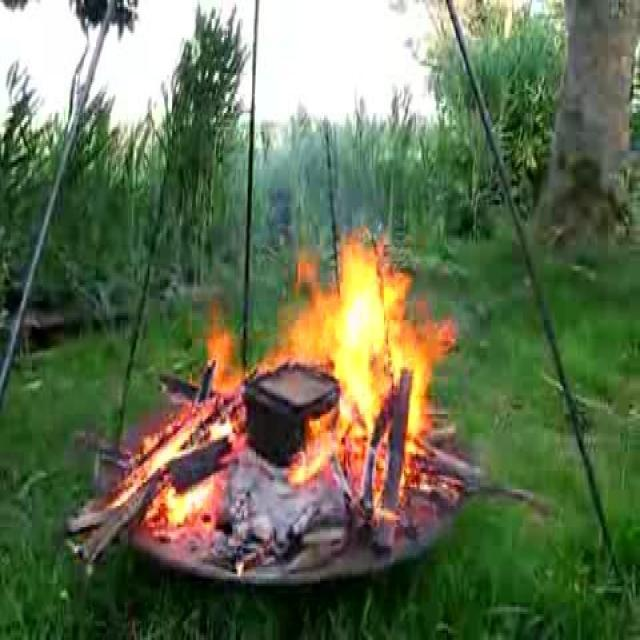Fire: (320, 254, 430, 441)
